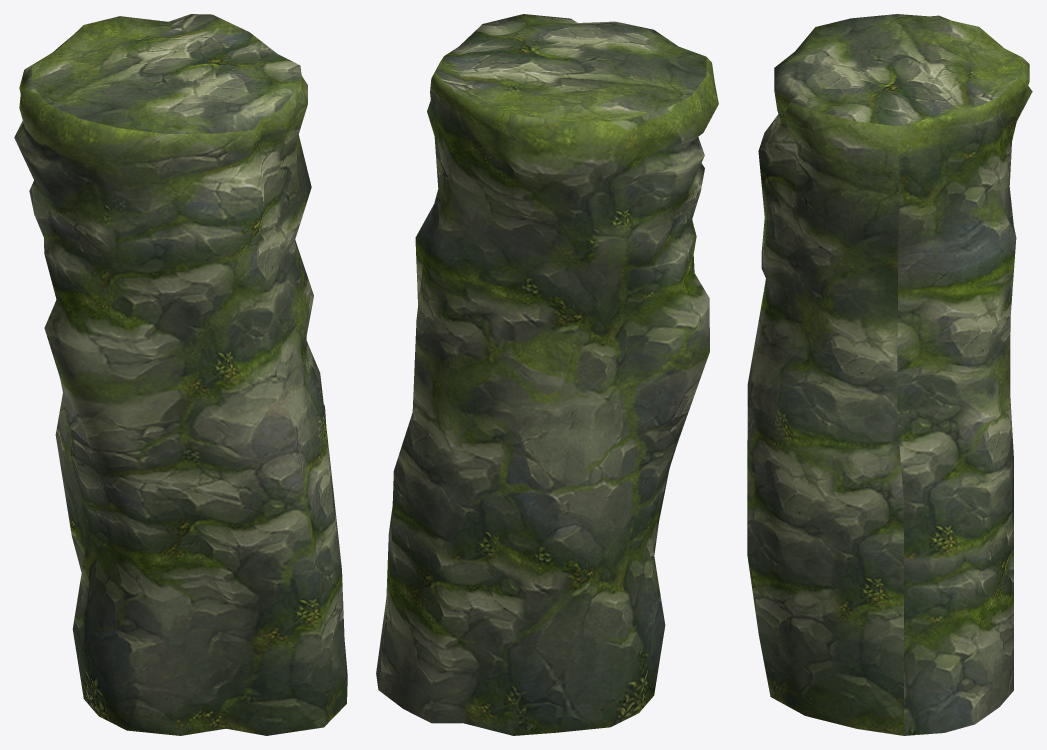
File: jd_shanti_3.FBX
3 renders of one model, left to right at view 1: azimuth 30°, elevation 25°; view 2: azimuth 150°, elevation 25°; view 3: azimuth 270°, elevation 25°, orthographic. The views are drawn at different scales.
Parts seen in each view (by area): view 1: jd_shanti_3; view 2: jd_shanti_3; view 3: jd_shanti_3.
Boxes of the visible parts, x1=… form: jd_shanti_3: x1=14, y1=14, x2=347, y2=735; jd_shanti_3: x1=376, y1=14, x2=718, y2=735; jd_shanti_3: x1=747, y1=14, x2=1032, y2=735.
Size of the model in its own units: 4087 by 8018 by 3505.
